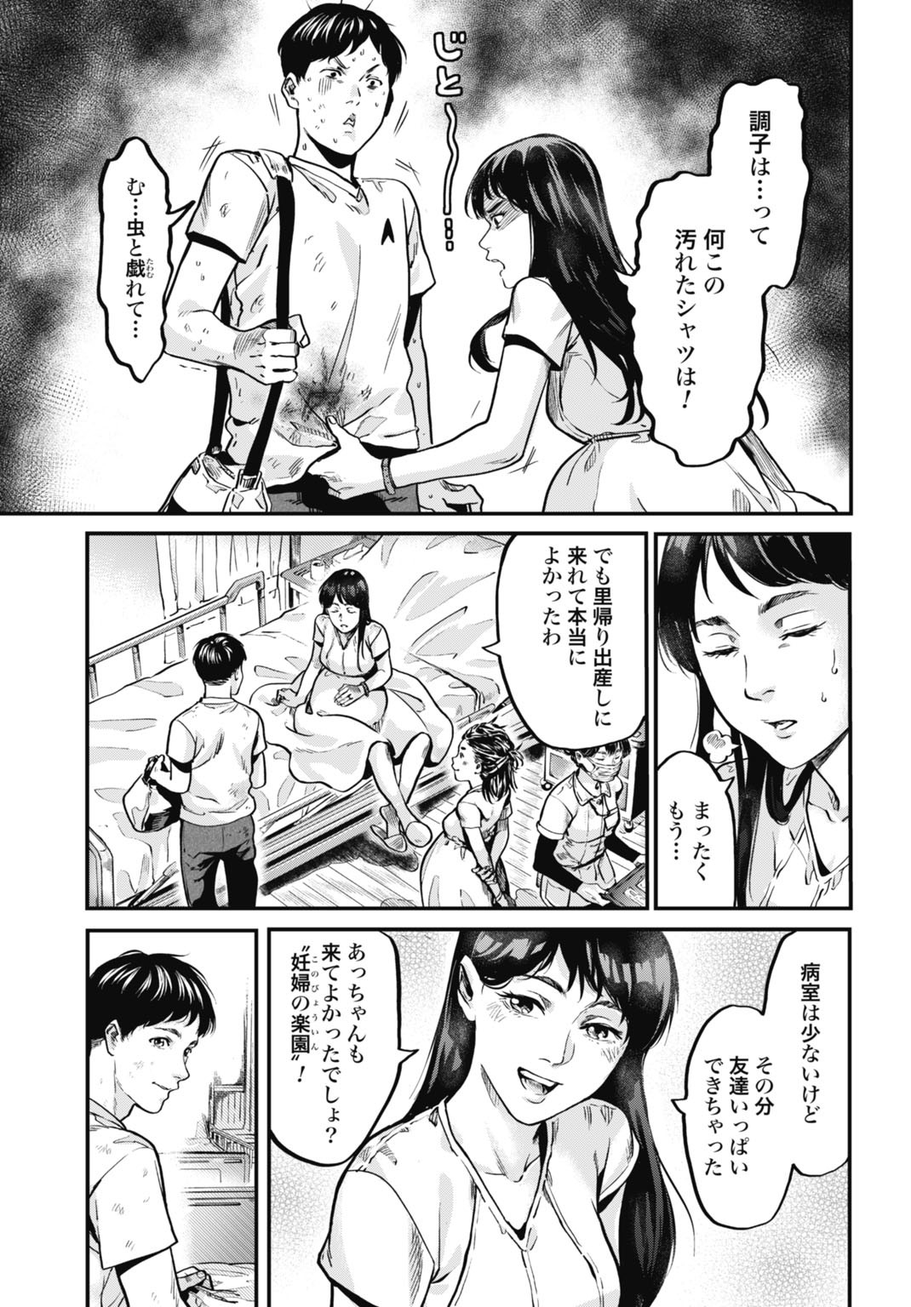bubbles: (607, 75, 817, 479), (650, 926, 851, 1232), (473, 537, 647, 759), (269, 931, 424, 1174), (90, 130, 199, 385), (655, 747, 744, 911)
